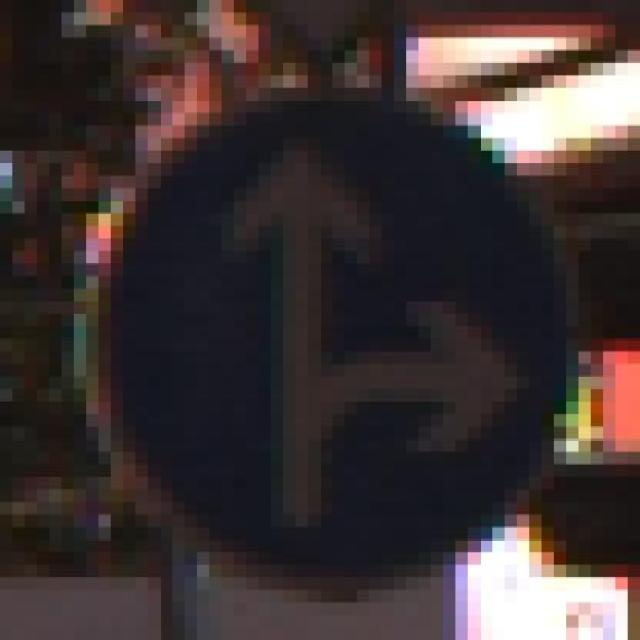Go Straight or Turn Right: (62, 75, 603, 590)
